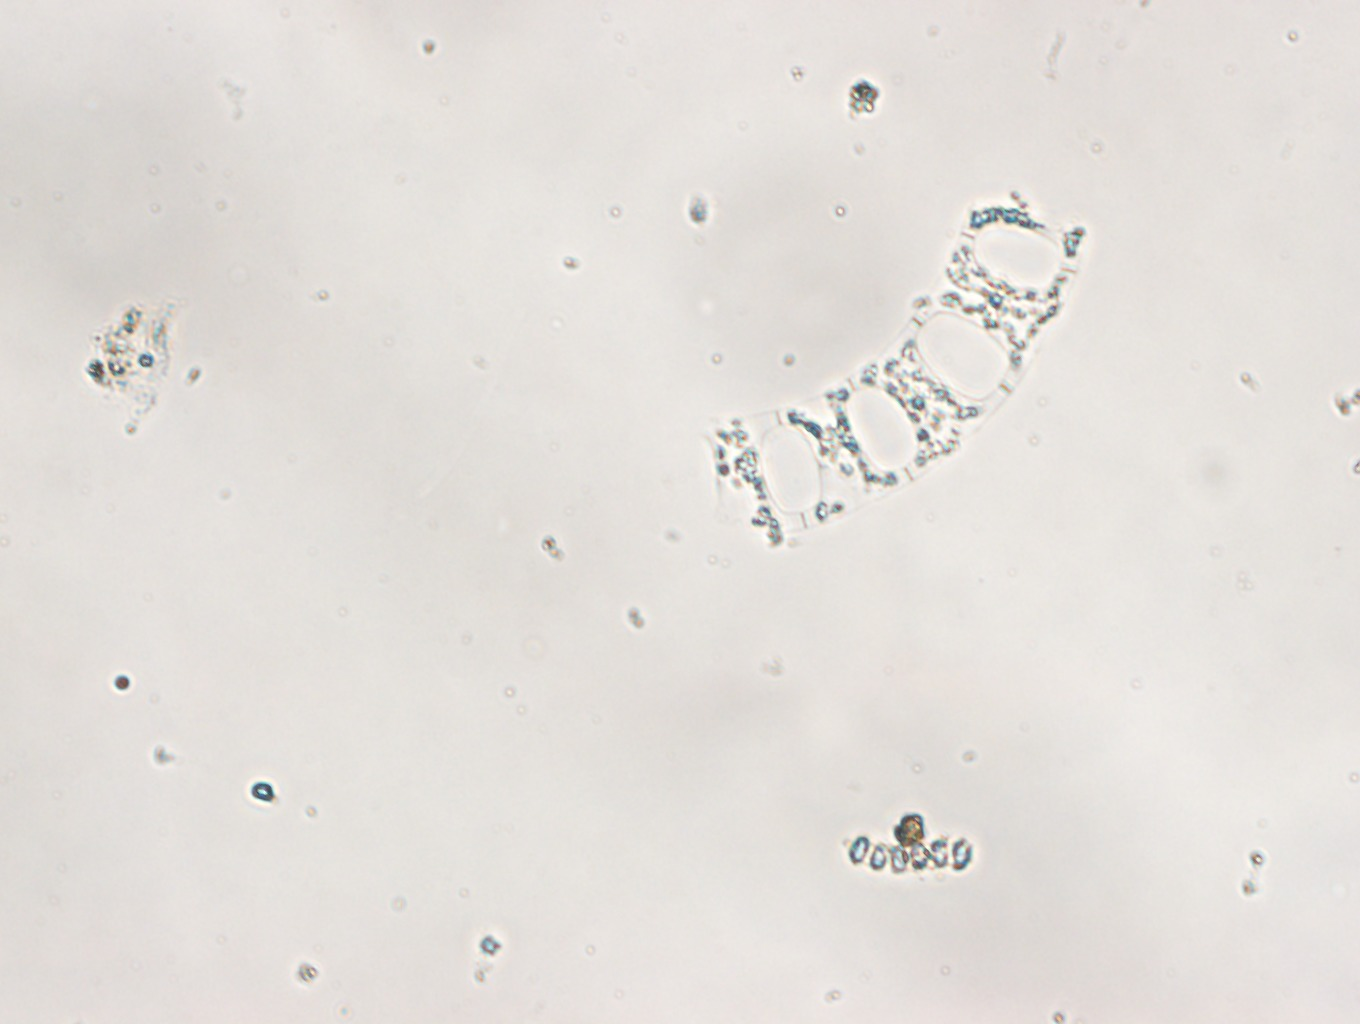eucampia: (703, 190, 1087, 546)
